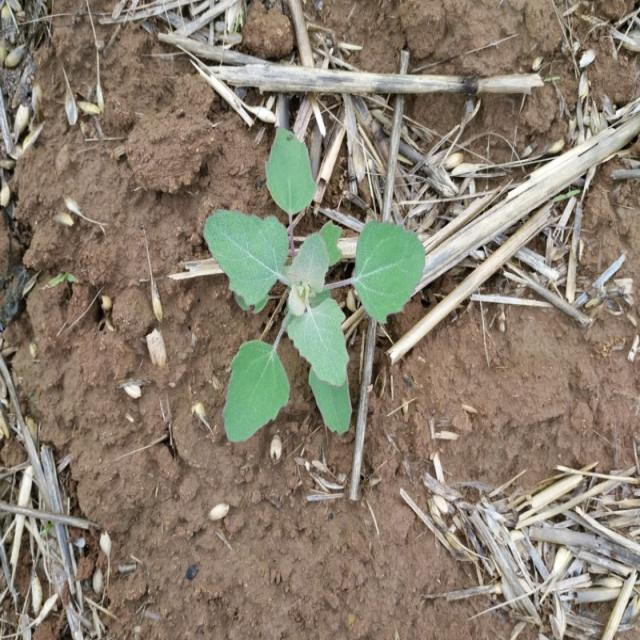goosefoots: (194, 138, 418, 444)
